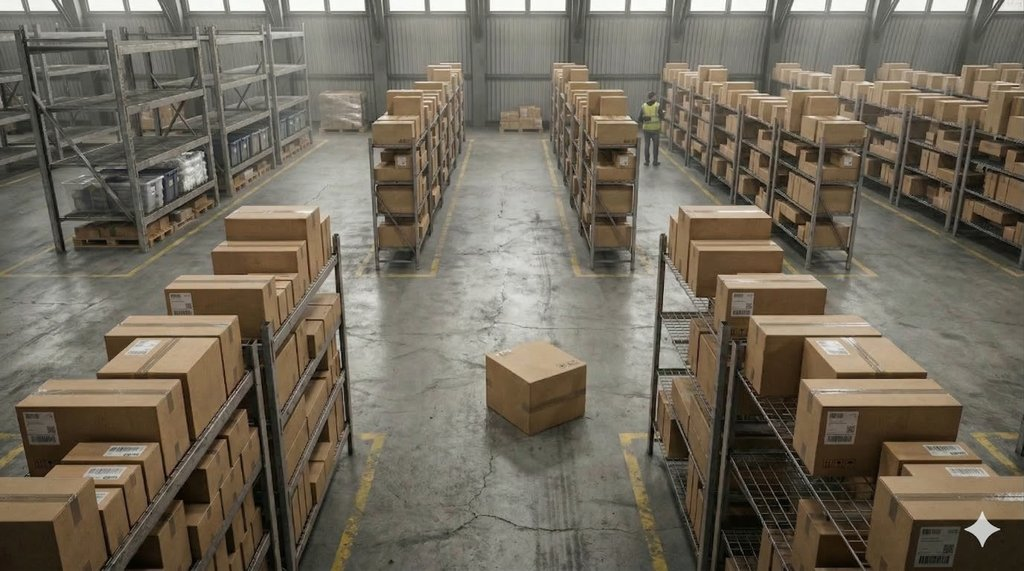empty_shelf: (9, 15, 346, 161), (725, 445, 824, 550)
obstacle: (364, 304, 665, 498)
pallet: (70, 232, 180, 252), (498, 126, 548, 137)
person: (637, 90, 678, 175)
safety_vest: (640, 98, 671, 140)
